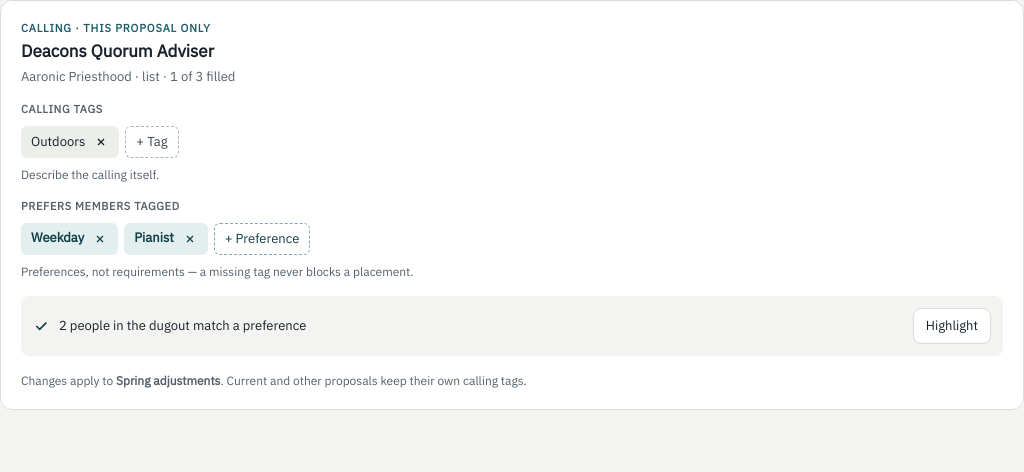
it: CallingTagsEditor › refusal shows the message and keeps the chips
What coordinates should you click on to do the following:
click the button named "Remove preference Weekday"
I would click on:
 (100, 238)
Its box is x1=86 y1=224 x2=114 y2=252.
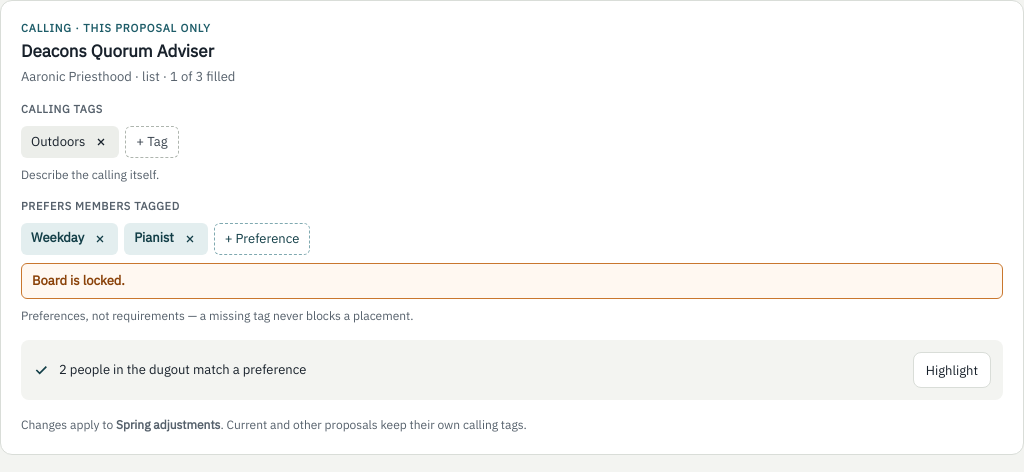
Expected: the message reads "Board is locked.", x1=32 y1=272 x2=125 y2=288
